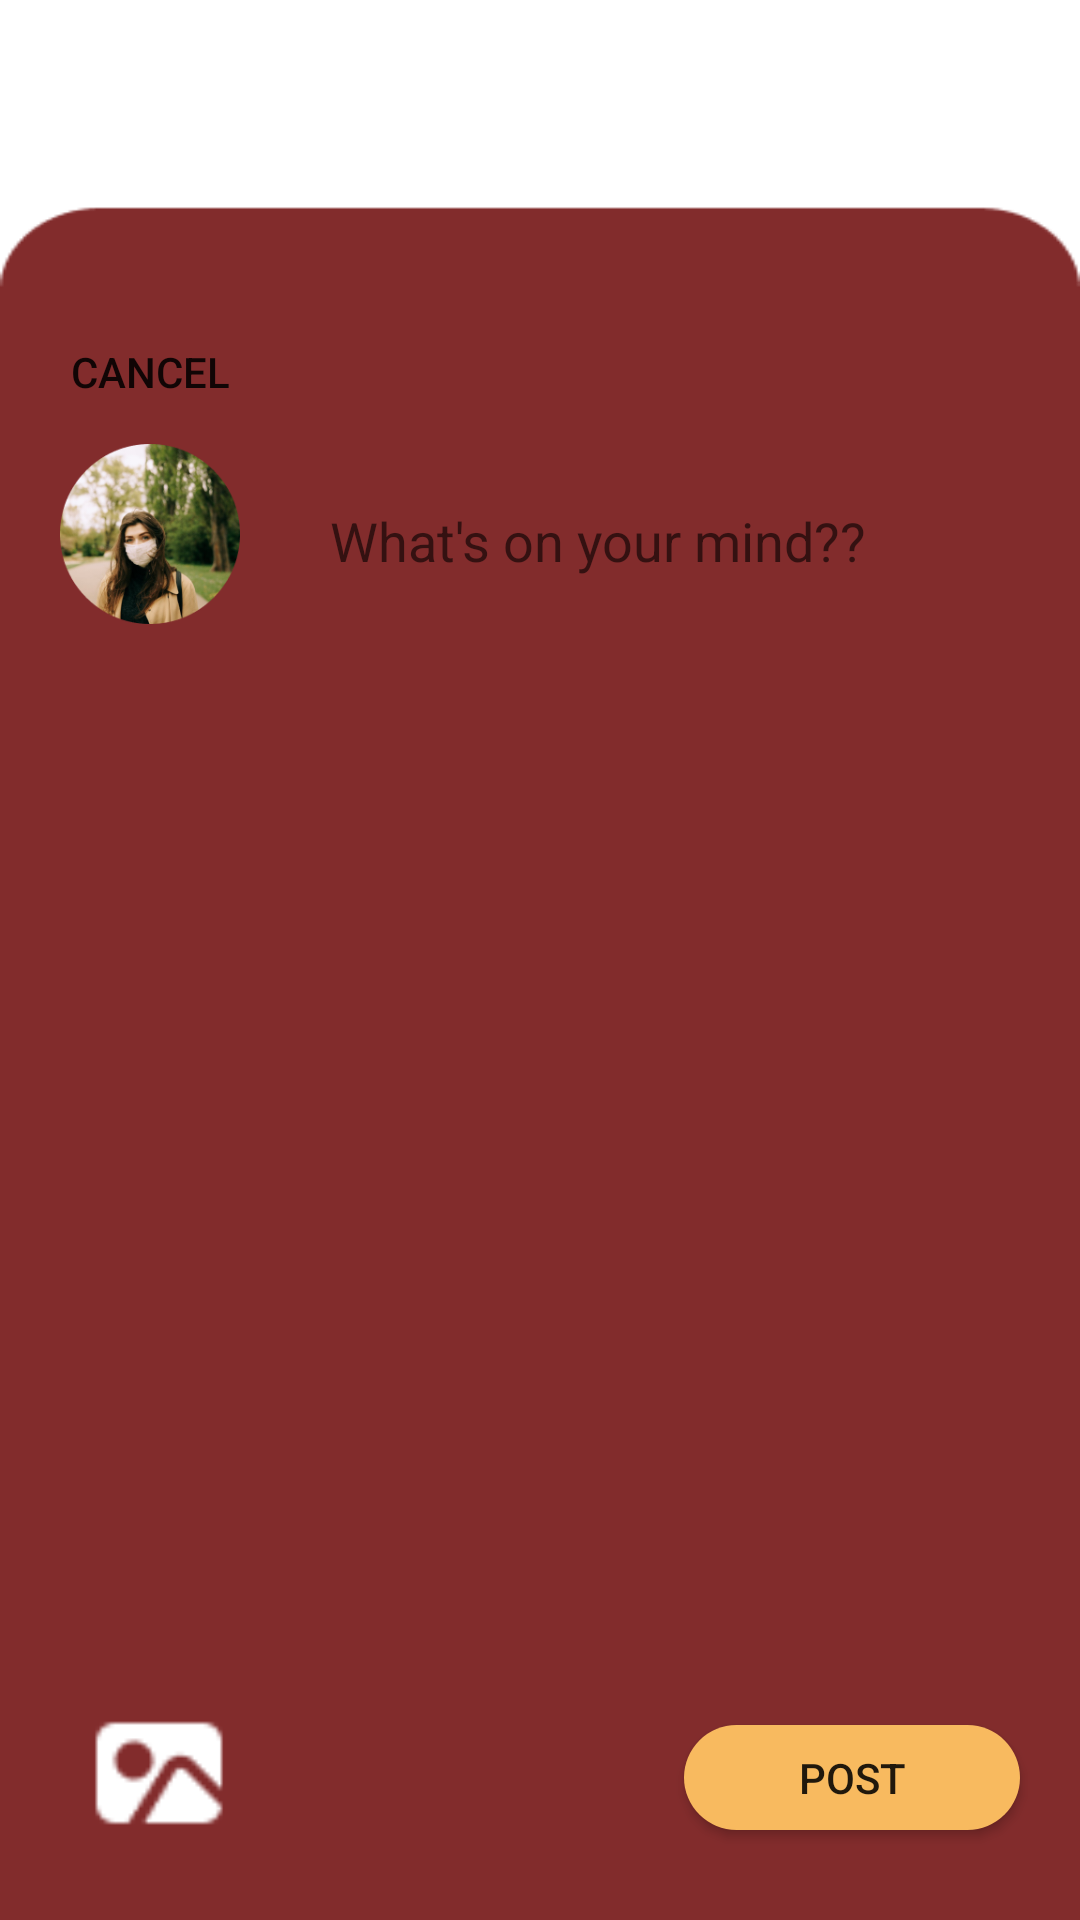

Named icons in this screenshot (1080×1920) and their bounding boxes, (x1, y1, x2, y2):
profcc: (60, 444, 240, 624)
